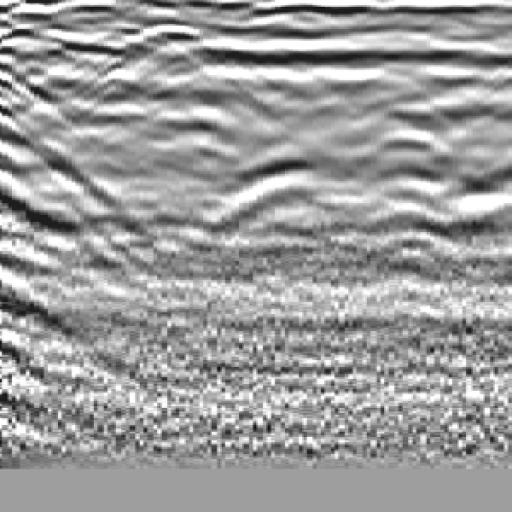metalic: (166, 27, 349, 265)
nonmetalic: (1, 40, 105, 279)
